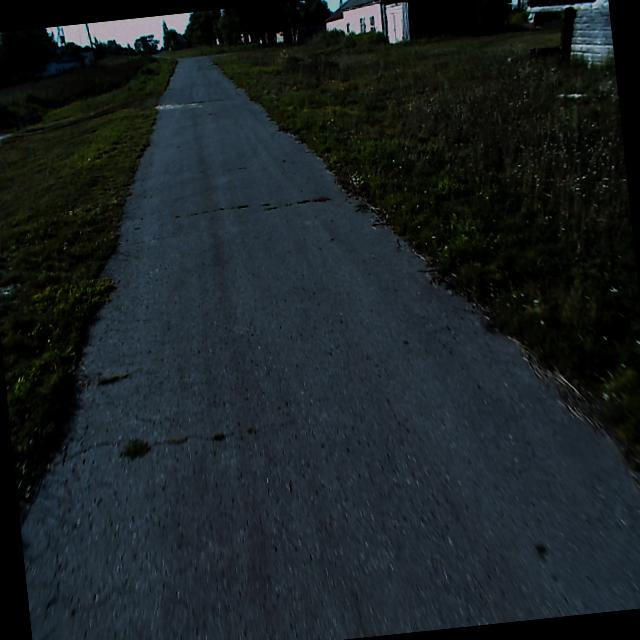road: (20, 54, 640, 640)
